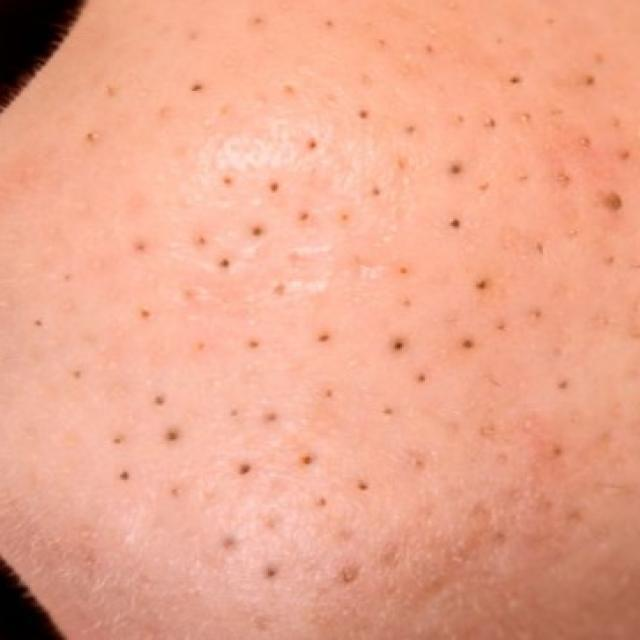blackhead: (64, 52, 588, 550)
